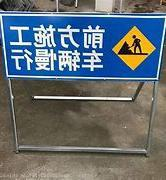sign: (1, 12, 163, 80)
